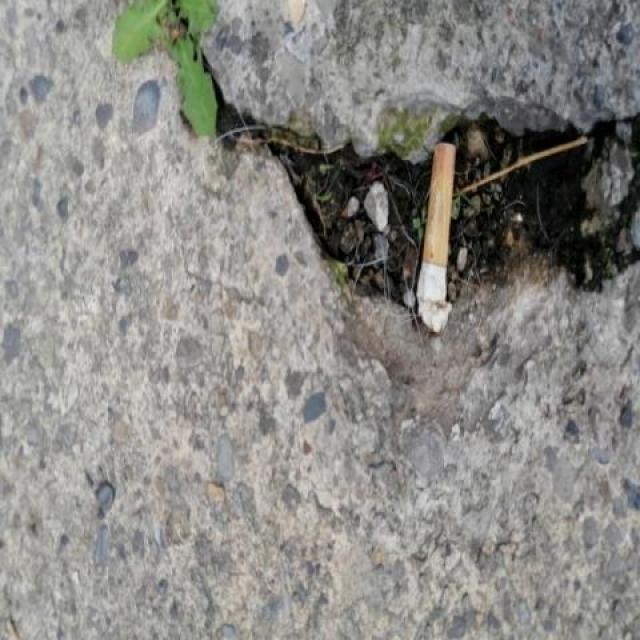non-organic waste: (410, 133, 465, 339)
